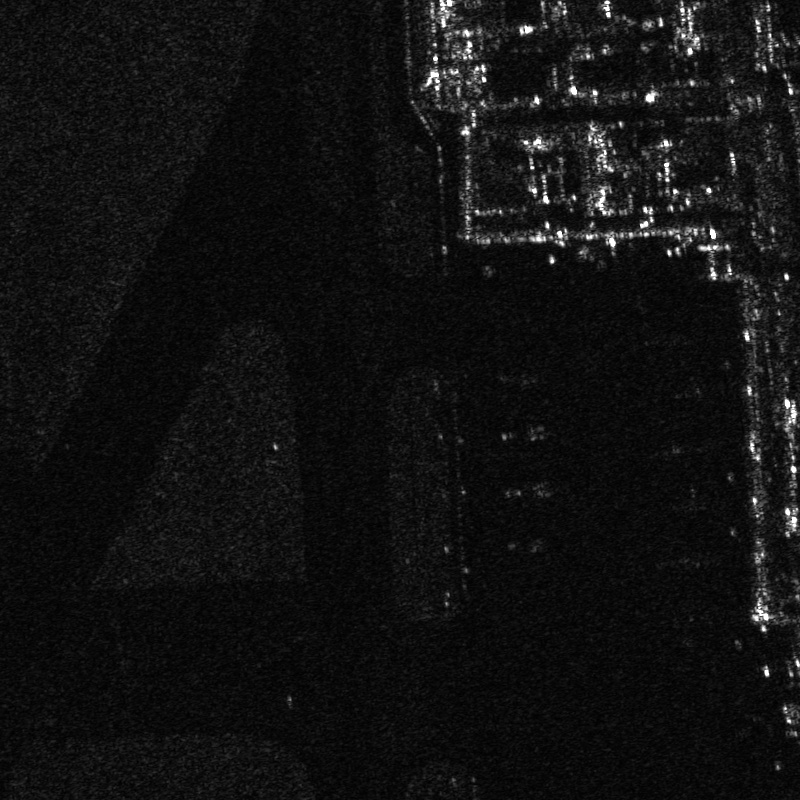ARJ21: (498, 468, 567, 512), (495, 412, 558, 455)
other: (503, 526, 559, 565), (486, 360, 542, 394)
